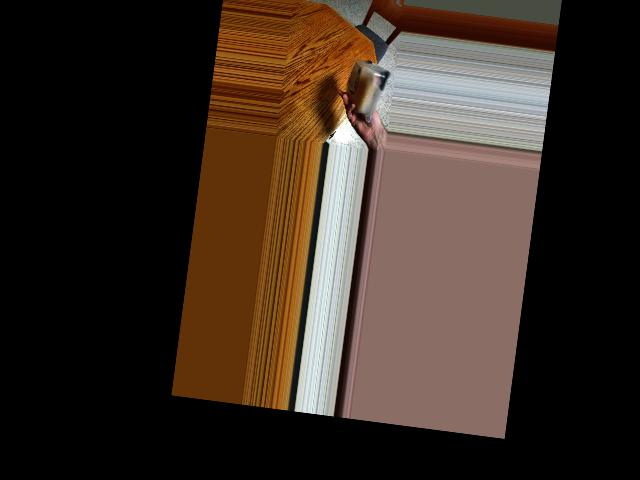cheese: (340, 55, 390, 118)
